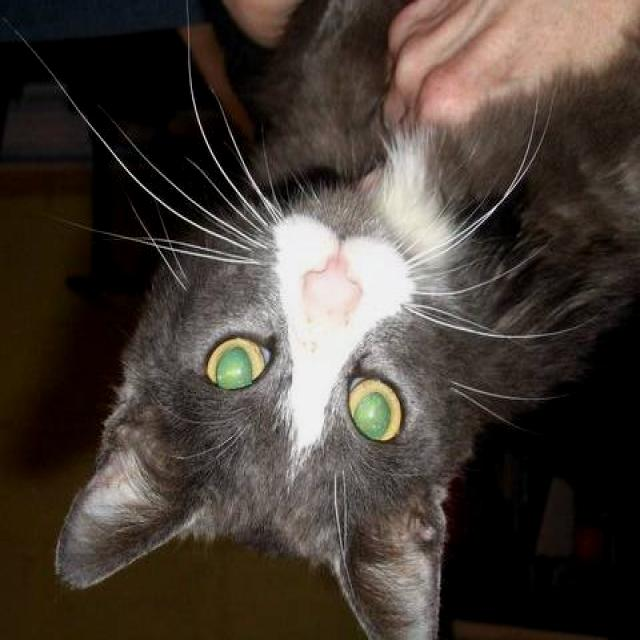Kucing: (29, 148, 584, 640)
